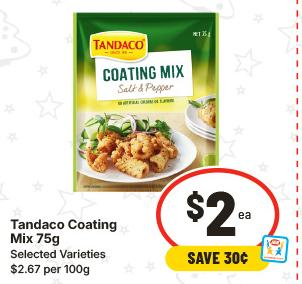description_block: (5, 214, 128, 247)
price_main: (155, 165, 278, 247)
product_image_block: (59, 7, 233, 196)
promo_text_block: (156, 245, 277, 273)
unit_price_block: (5, 260, 98, 280)
